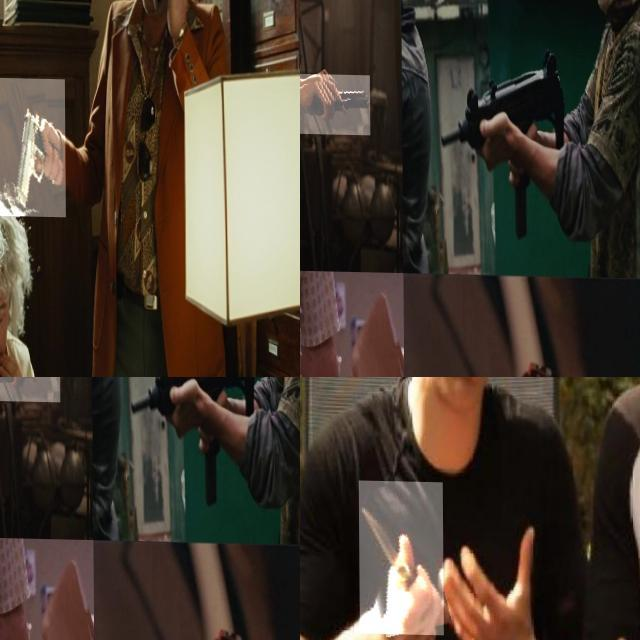-: (358, 480, 443, 634)
gun-knife-thesis - v11 Yolov5 augmented: (436, 45, 572, 232), (126, 377, 261, 498), (0, 76, 65, 215), (300, 73, 370, 134), (0, 377, 60, 407)
